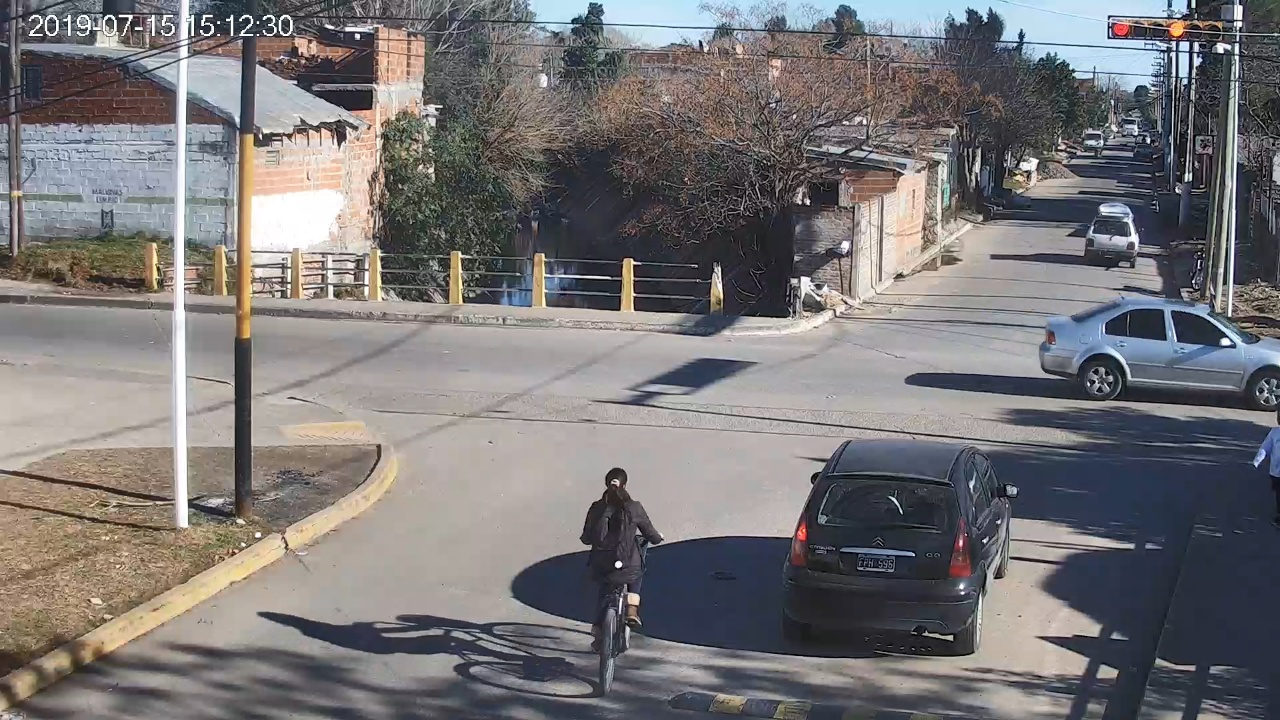bicycle: (580, 468, 664, 694)
car: (781, 440, 1020, 654), (1085, 213, 1144, 269)
